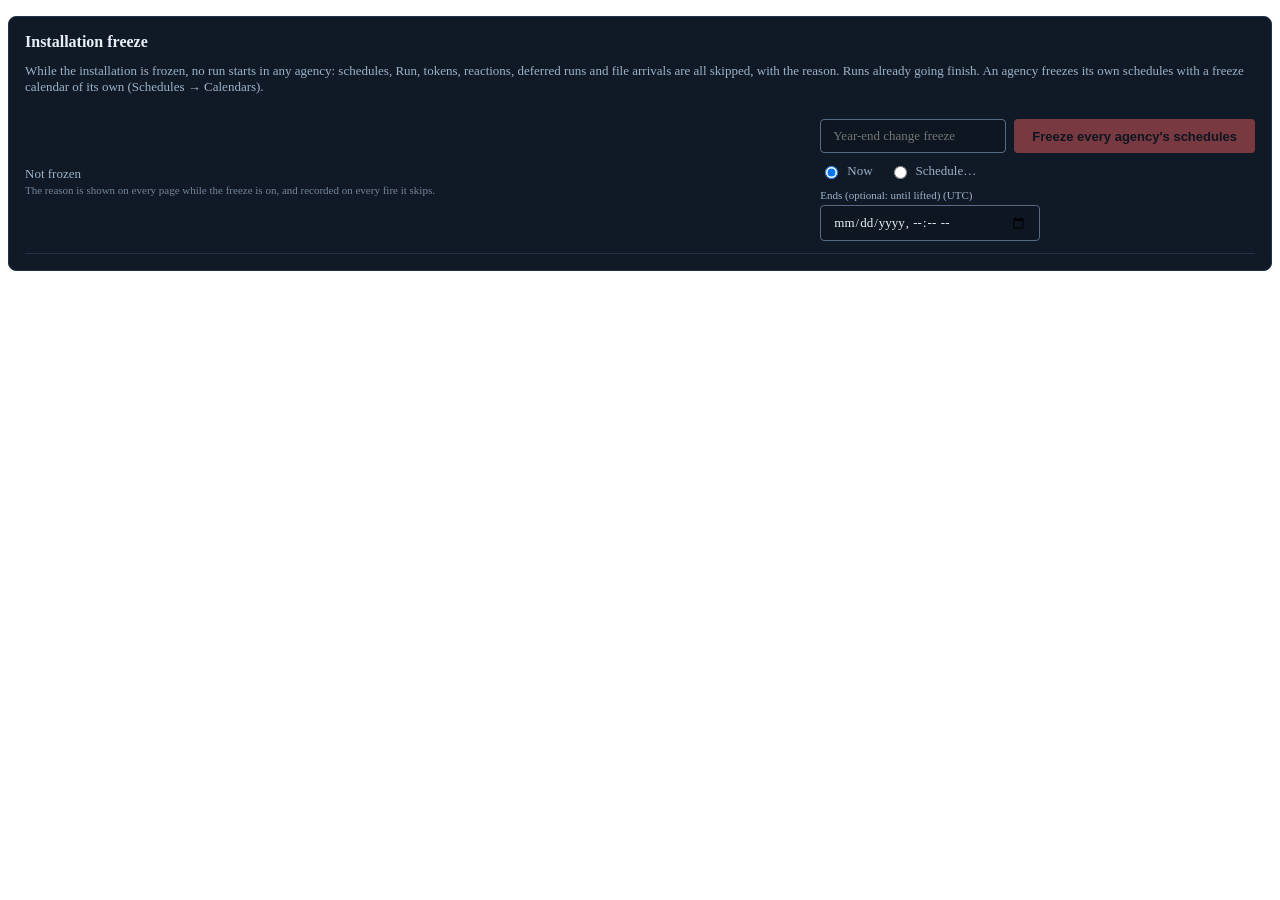
Test: the installation freeze (C11) › cancelling the confirmation sends nothing
Type "Audit week" into the field named "Reason for the freeze" at (913, 136), box [820, 119, 1006, 153]
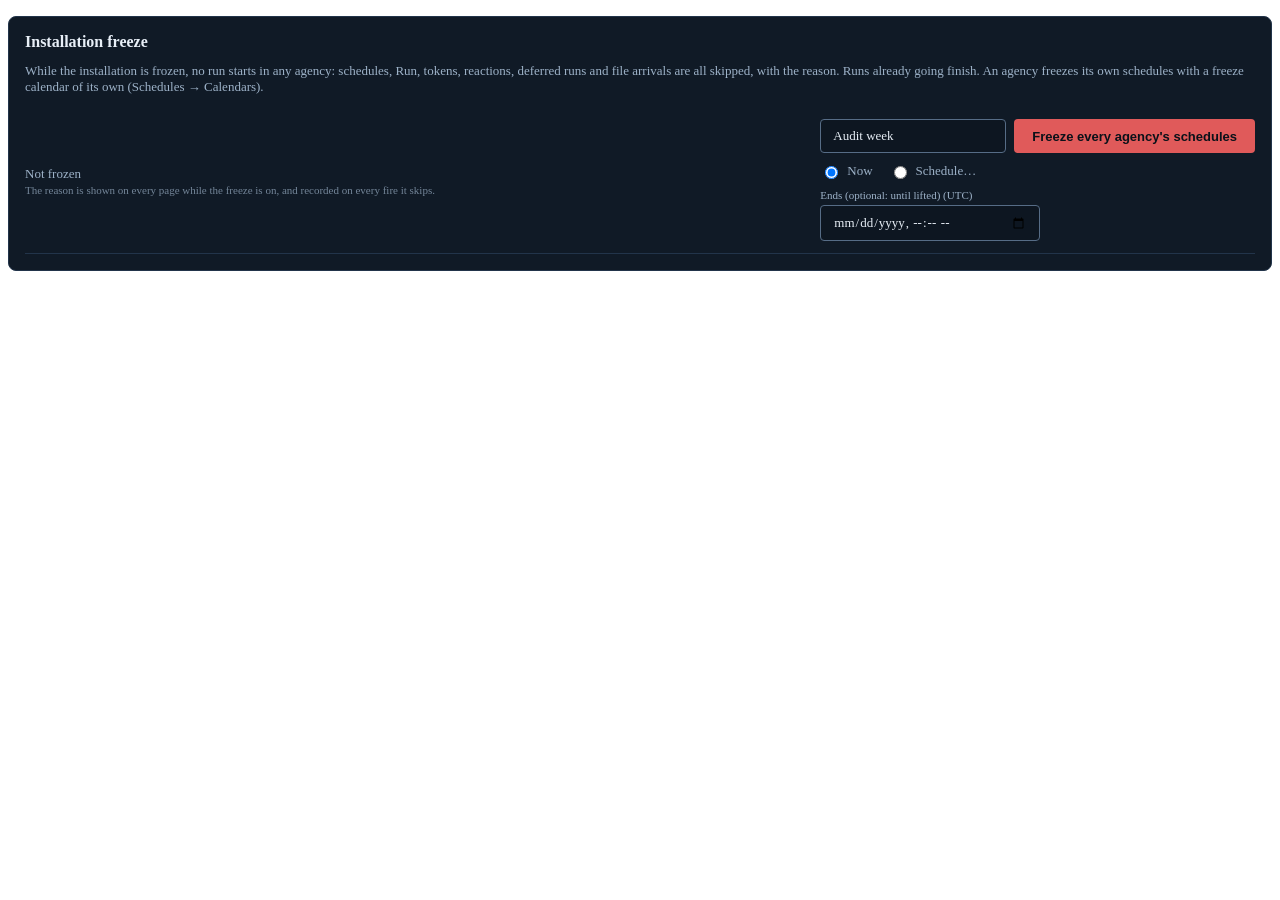
Click the button "Freeze every agency's schedules" at (1135, 136), box [1014, 119, 1255, 153]
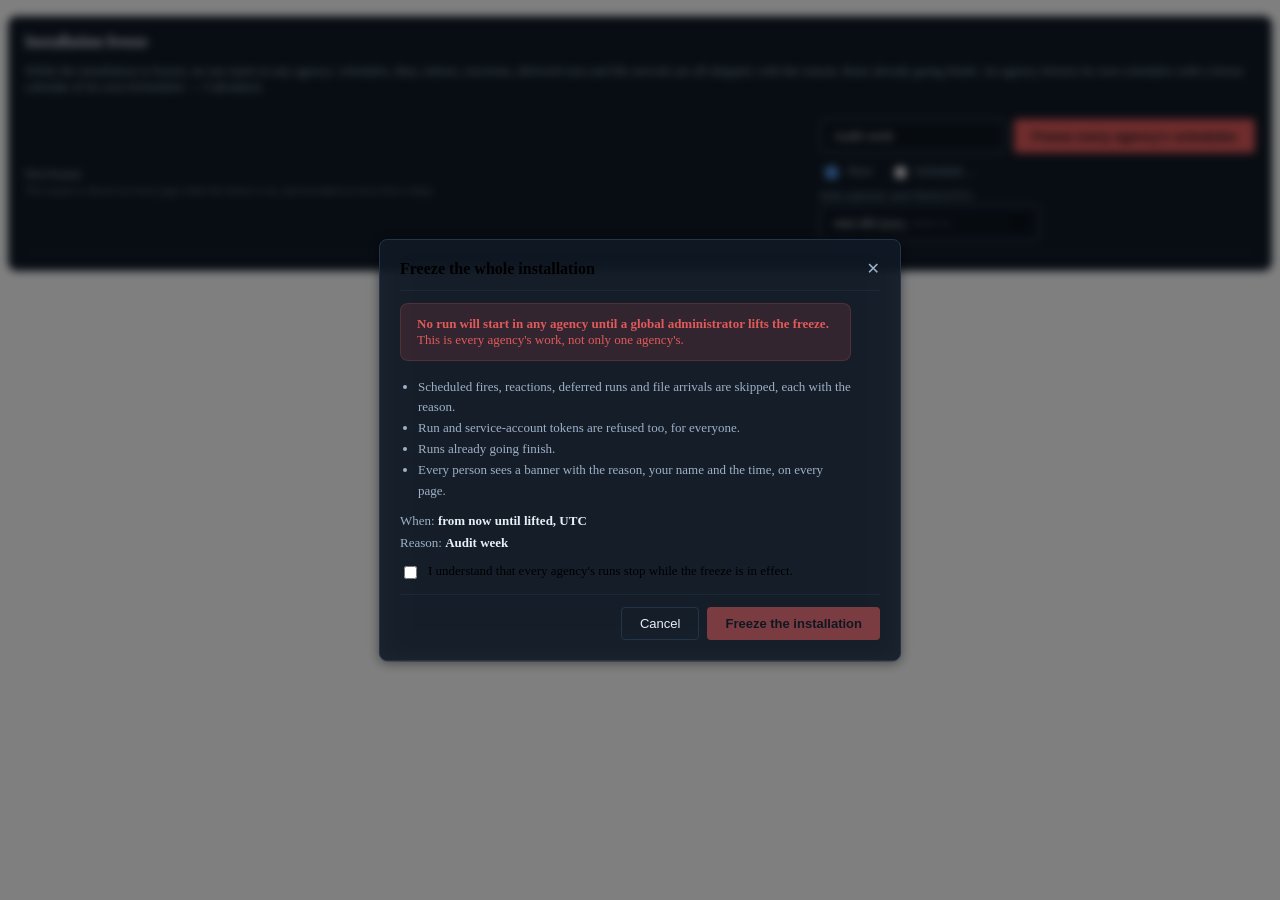
Click the button "Cancel" at (660, 624), box [621, 607, 700, 640]
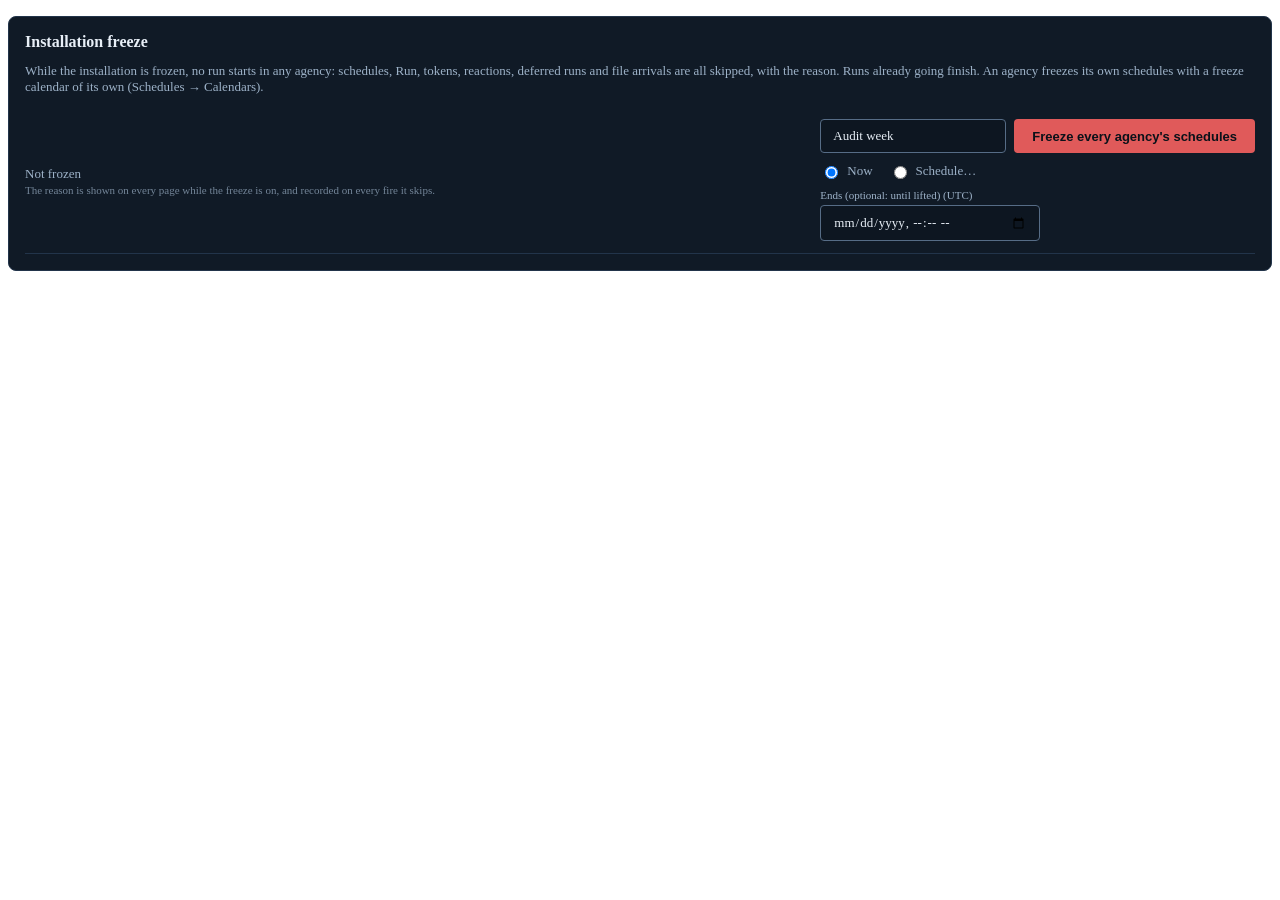
Check: the text "No run will start in any agency" is gone
